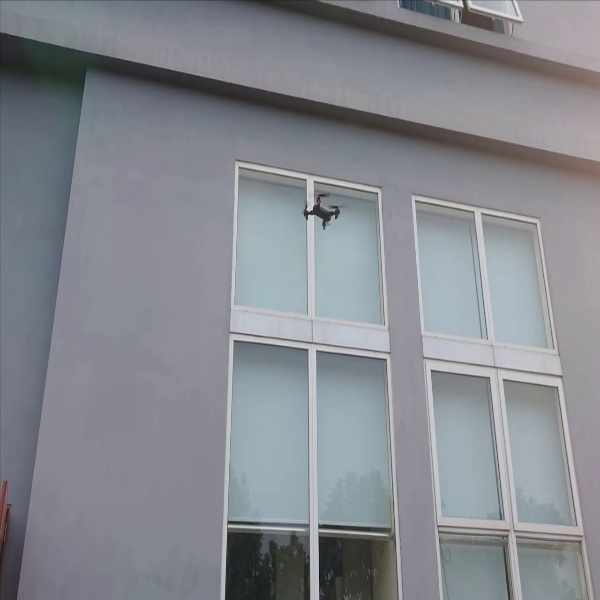drone: (300, 185, 344, 235)
